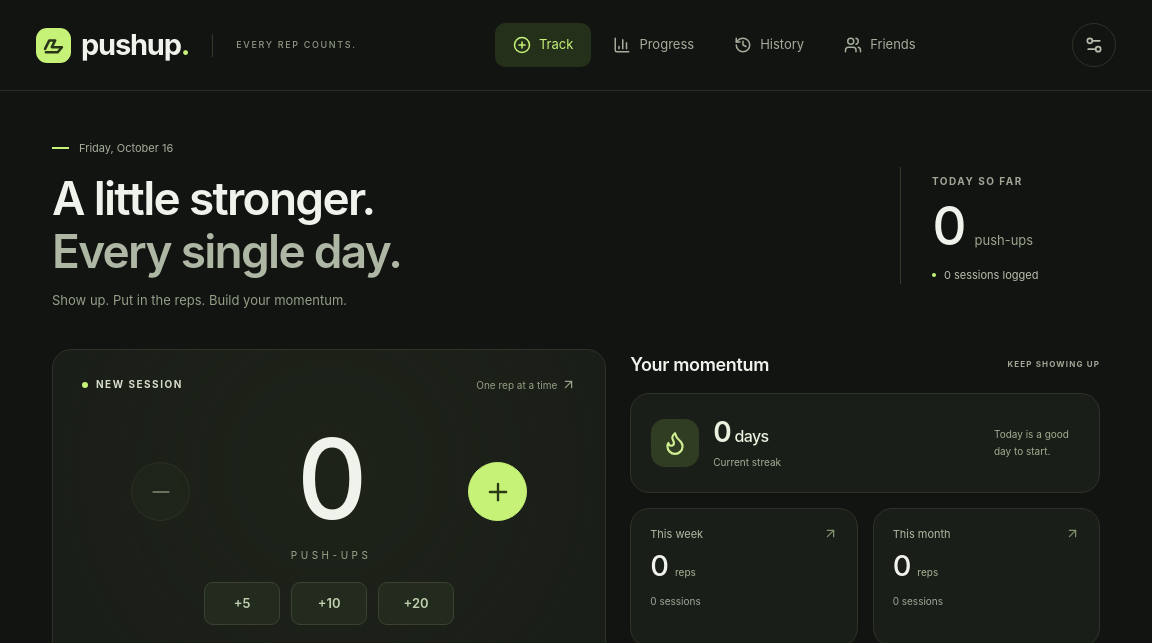
Test: session workflow › retains historical form values after a failed save and saves one record on retry
Step 1. Click the button "History" → [769, 45], box x1=716 y1=23 x2=822 y2=67
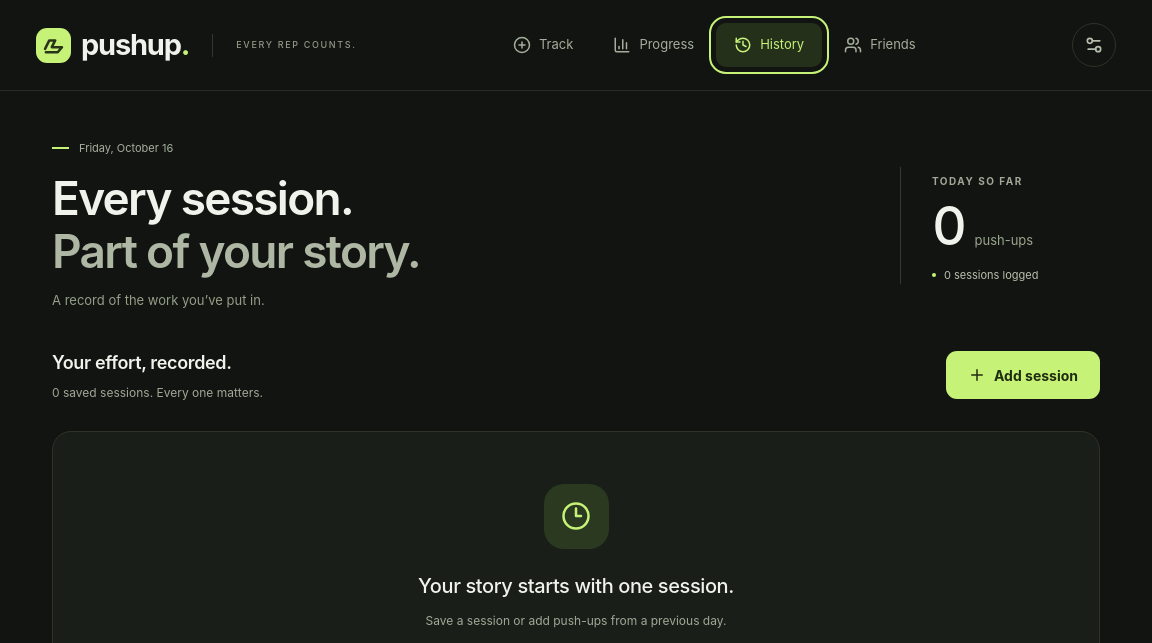
Step 2. Click the button "Add session" → [1023, 375], box x1=946 y1=351 x2=1100 y2=399
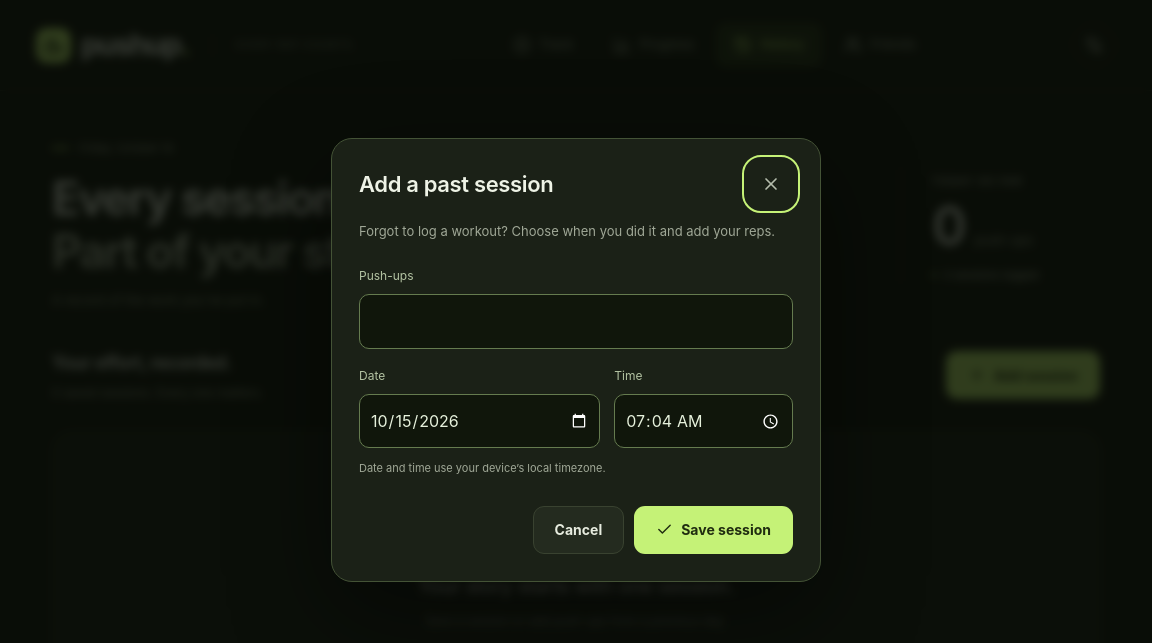
Step 3. Type "2024-02-29" into the date field labelled "Date" → [480, 421], box x1=359 y1=394 x2=600 y2=448
Step 4. Replace the text in the time field labelled "Time" with "18:45" → [704, 421], box x1=614 y1=394 x2=793 y2=448
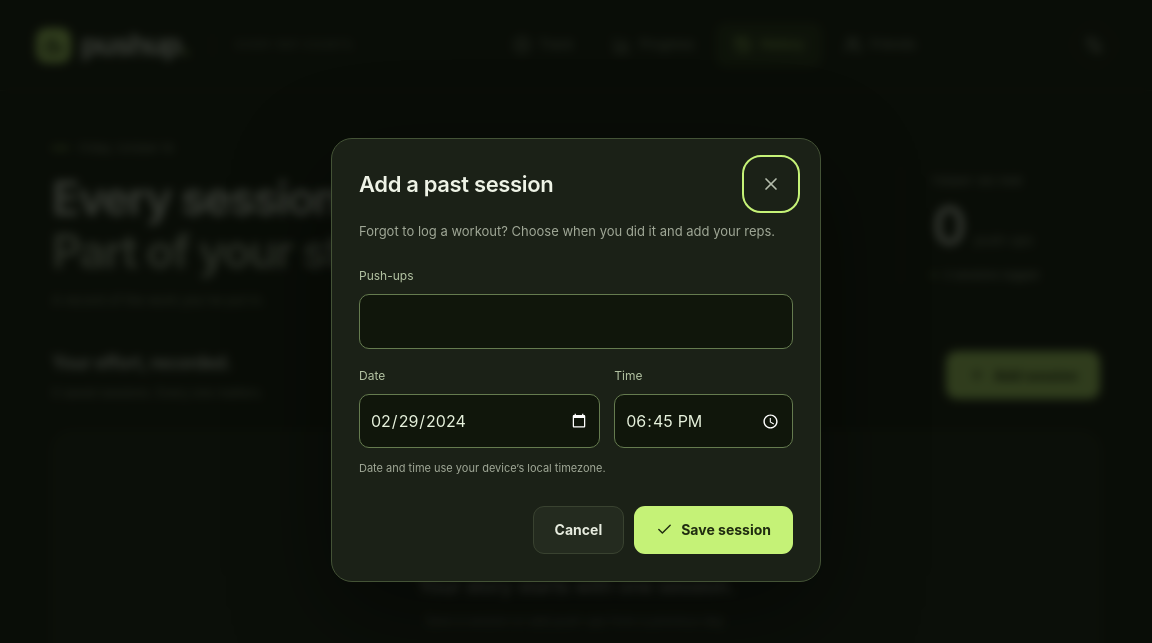
Step 5. Type "30" into the number field labelled "Push-ups" → [576, 321], box x1=359 y1=294 x2=793 y2=349
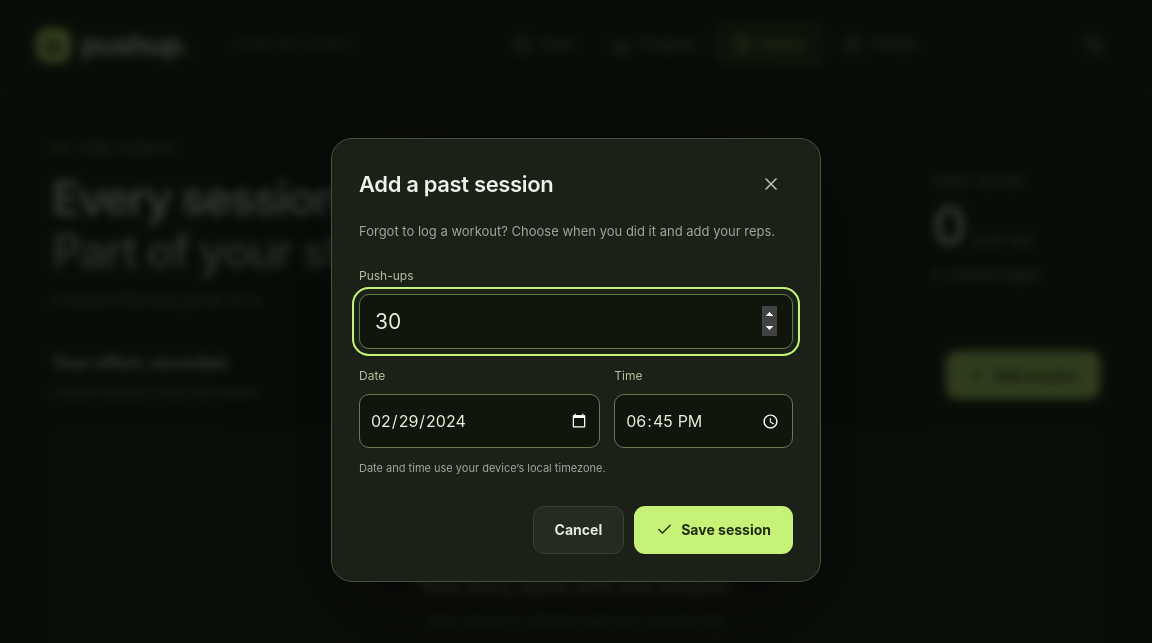
Step 6. Click the button "Save session" → [714, 530], box x1=634 y1=506 x2=793 y2=554
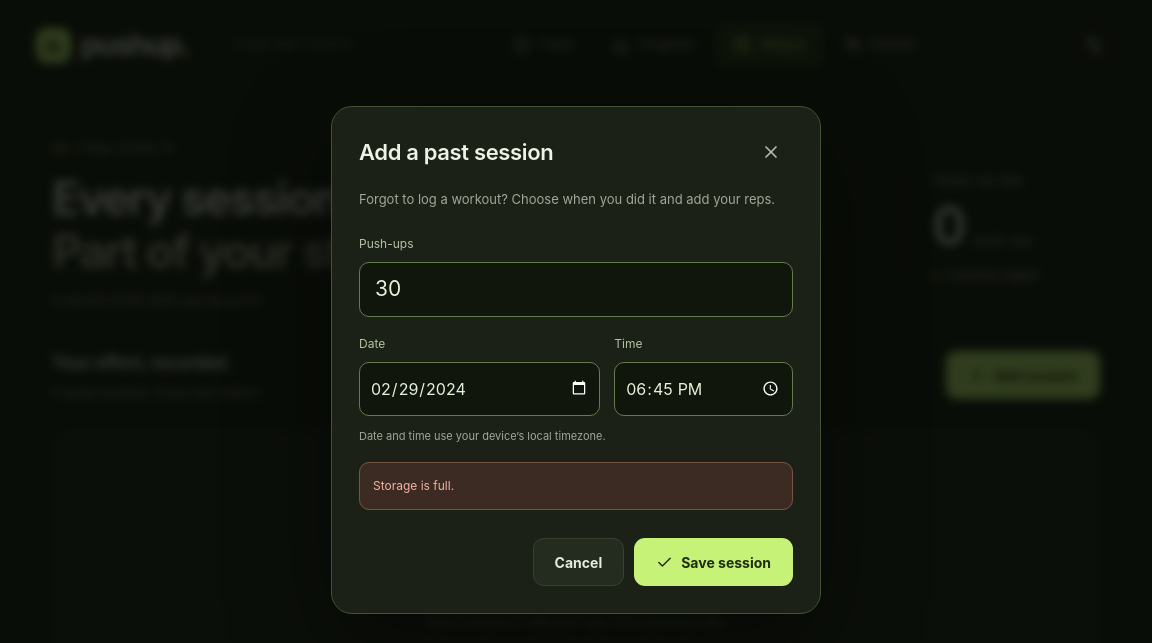
Expected: the message reads "Storage is full.", x1=373 y1=478 x2=454 y2=493
Step 7. Click the button "Save session" → [714, 562], box x1=634 y1=538 x2=793 y2=586
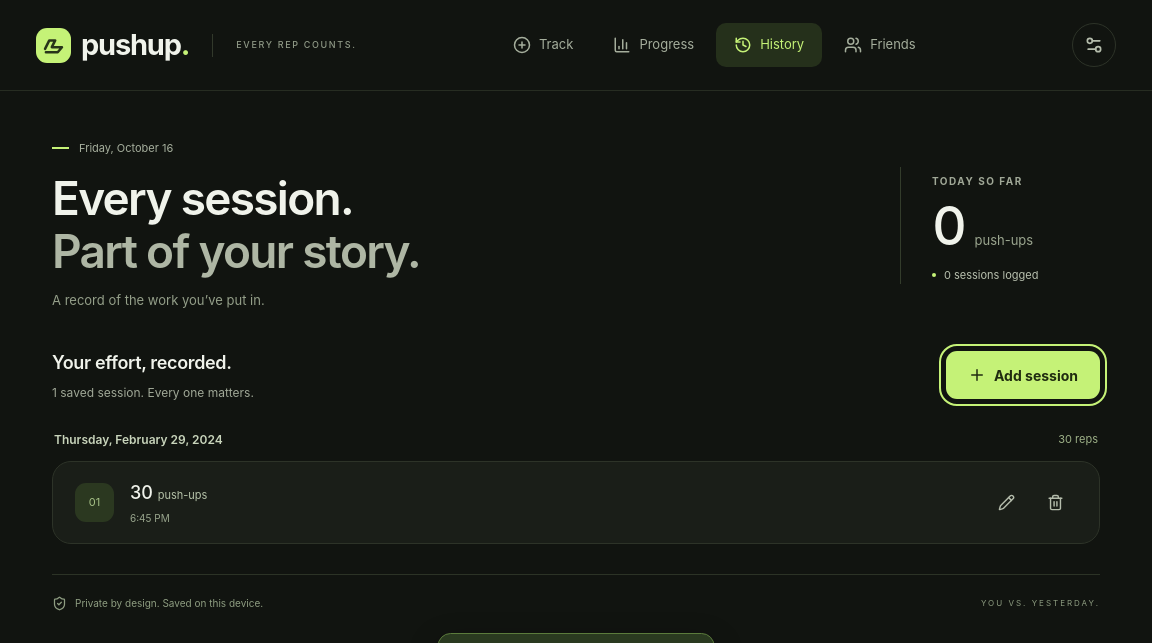
Expected: the dialog is gone
